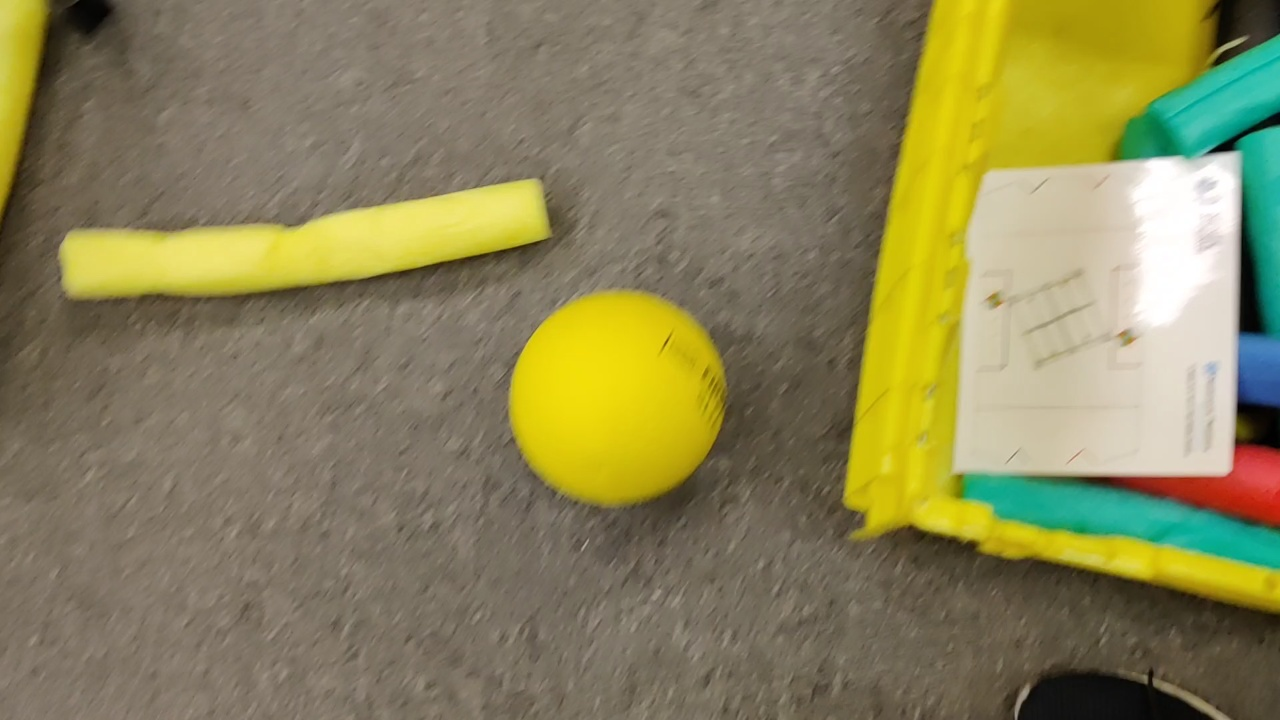Ball: (506, 289, 734, 502)
